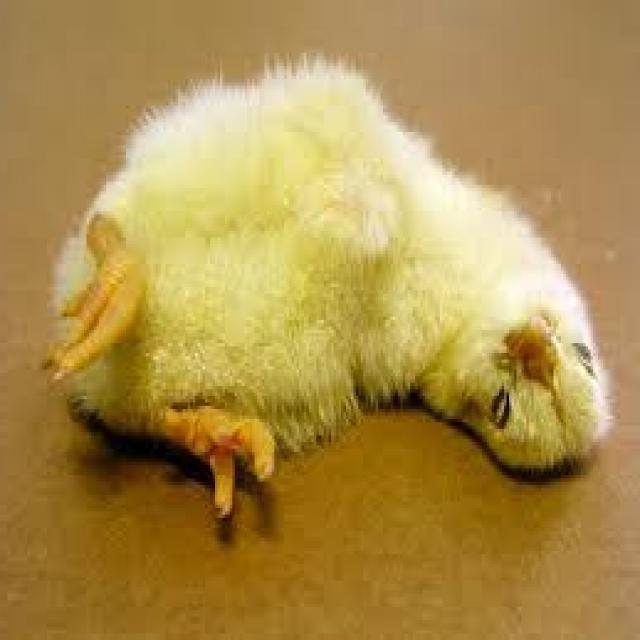poussin: (35, 53, 612, 525)
